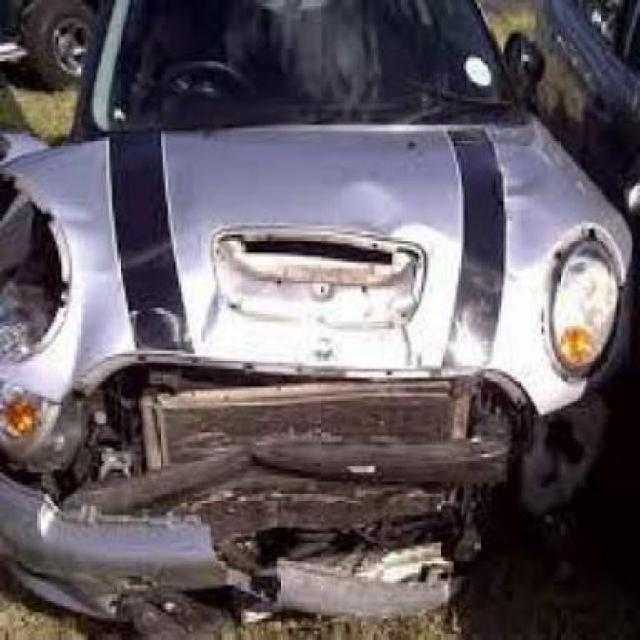damage: (0, 154, 583, 622)
